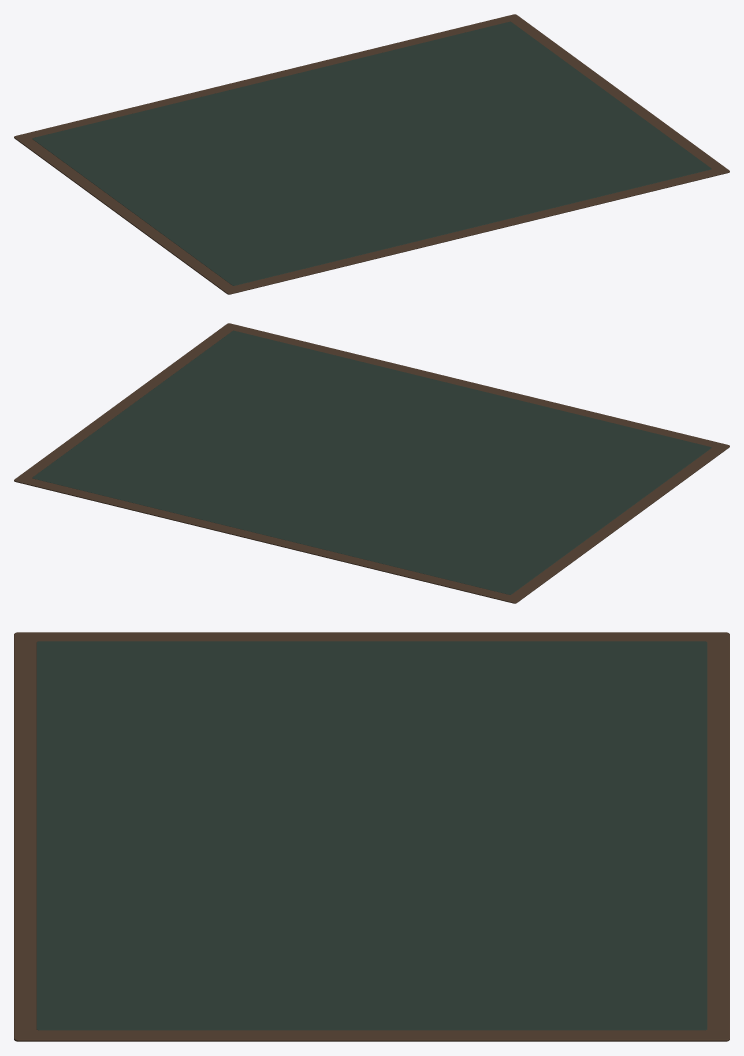
File: living_rug_den.gltf
The picture shows the model from 3 angles, top to bottom: view 1: azimuth 30°, elevation 25°; view 2: azimuth 150°, elevation 25°; view 3: azimuth 270°, elevation 25°; orthographic projection. The views are drawn at different scales.
Visible parts, largest first — view 1: LivingRugDen_Field, LivingRugDen_Border; view 2: LivingRugDen_Field, LivingRugDen_Border; view 3: LivingRugDen_Field, LivingRugDen_Border.
Part boxes in pixels (x1,y1,x2,y2): LivingRugDen_Field: (32,21,711,285); LivingRugDen_Border: (14,14,729,294); LivingRugDen_Field: (32,330,711,594); LivingRugDen_Border: (14,323,729,603); LivingRugDen_Field: (36,641,707,1030); LivingRugDen_Border: (14,632,729,1041).
Bounding box in the file's own units: 6.2 × 0.0171 × 4.6.
